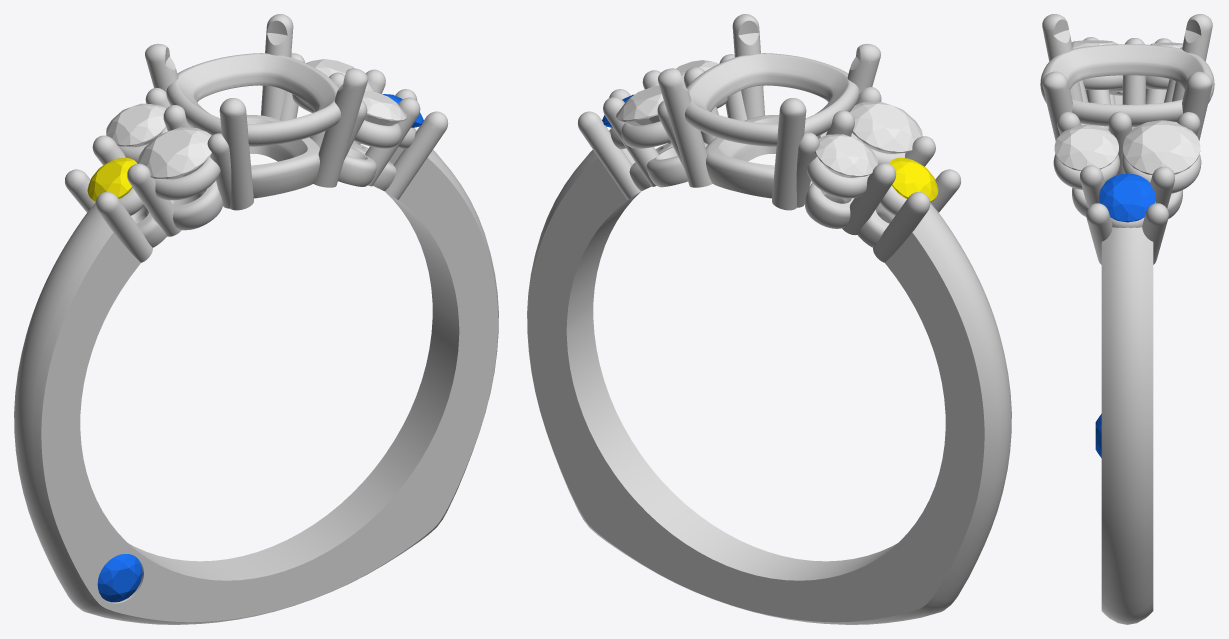
File: MarcSarahnewRR.glb
3 renders of one model, left to right at view 1: azimuth 30°, elevation 25°; view 2: azimuth 150°, elevation 25°; view 3: azimuth 270°, elevation 25°, orthographic. The views are drawn at different scales.
Visible parts, largest first — view 1: Marc and sarah PT for 3d model mesh, Marc and sarah dia for 3d model.002, Marc and sarah dia for 3d model.003, Marc and sarah yellow sapphire for 3d model, Marc and sarah yellow sapphire for 3d model.002, Marc and sarah dia for 3d model.001; view 2: Marc and sarah PT for 3d model mesh, Marc and sarah dia for 3d model.002, Marc and sarah dia for 3d model.003, Marc and sarah yellow sapphire for 3d model.002, Marc and sarah dia for 3d model; view 3: Marc and sarah PT for 3d model mesh, Marc and sarah dia for 3d model, Marc and sarah dia for 3d model.001, Marc and sarah yellow sapphire for 3d model.001, Marc and sarah dia for 3d model.002.
Boxes of the visible parts, <box> form: Marc and sarah PT for 3d model mesh: <box>14,14,498,624</box>; Marc and sarah dia for 3d model.002: <box>138,127,211,179</box>; Marc and sarah dia for 3d model.003: <box>106,103,165,147</box>; Marc and sarah yellow sapphire for 3d model: <box>97,554,142,602</box>; Marc and sarah yellow sapphire for 3d model.002: <box>87,157,136,201</box>; Marc and sarah dia for 3d model.001: <box>362,90,406,125</box>; Marc and sarah PT for 3d model mesh: <box>527,14,1011,624</box>; Marc and sarah dia for 3d model.002: <box>850,101,922,153</box>; Marc and sarah dia for 3d model.003: <box>815,134,877,177</box>; Marc and sarah yellow sapphire for 3d model.002: <box>888,157,938,201</box>; Marc and sarah dia for 3d model: <box>616,85,663,125</box>; Marc and sarah PT for 3d model mesh: <box>1040,14,1214,624</box>; Marc and sarah dia for 3d model: <box>1123,120,1200,174</box>; Marc and sarah dia for 3d model.001: <box>1054,124,1118,170</box>; Marc and sarah yellow sapphire for 3d model.001: <box>1099,173,1155,222</box>; Marc and sarah dia for 3d model.002: <box>1071,40,1117,48</box>.
Size of the model in its own units: 20.69 by 23.05 by 6.75.
